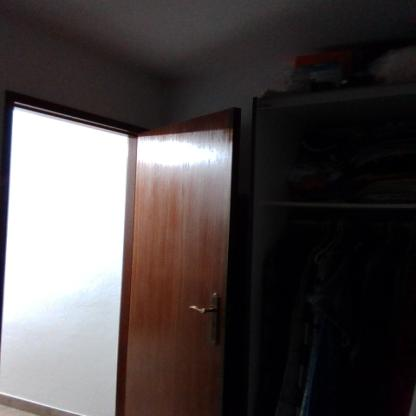open: (0, 100, 237, 410)
